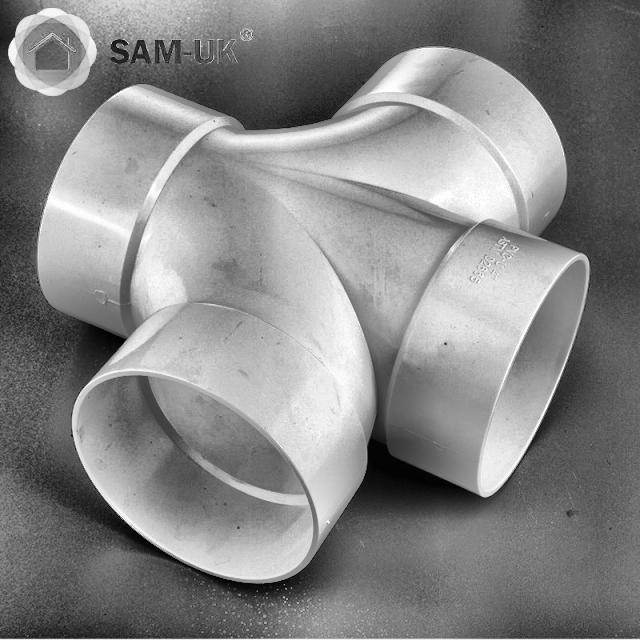EQUALCROSS: (37, 46, 591, 580)
